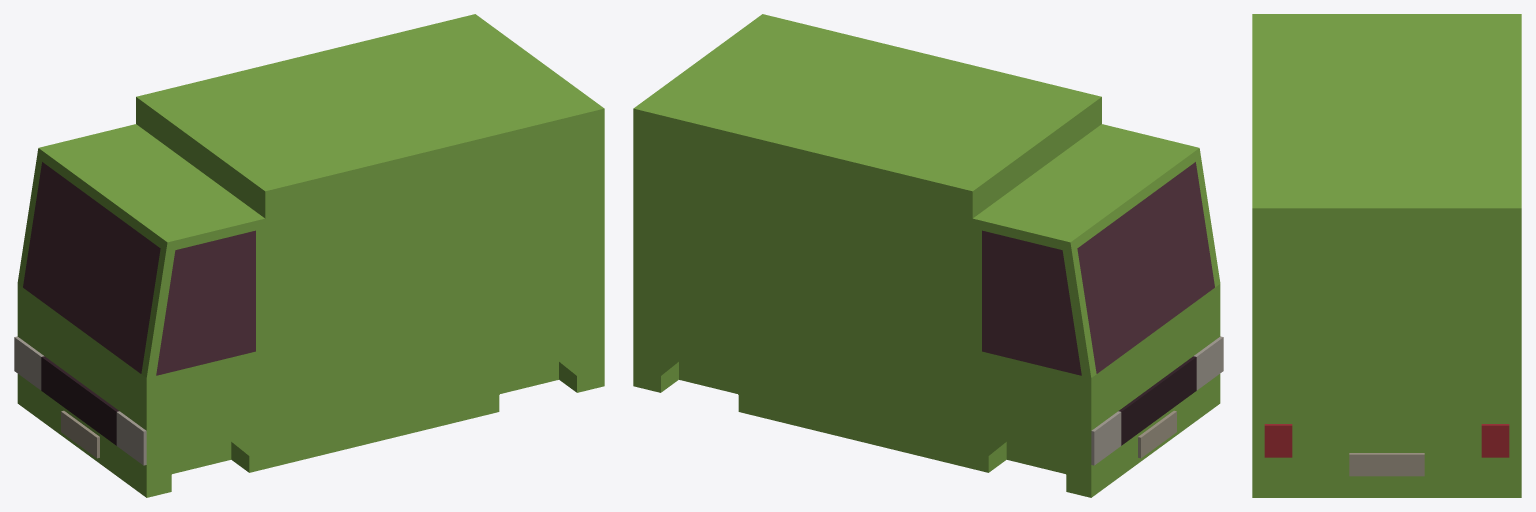
Rendered from MiniTruck_Green.fbx.
The picture shows the model from 3 angles, left to right: view 1: azimuth 30°, elevation 25°; view 2: azimuth 150°, elevation 25°; view 3: azimuth 270°, elevation 25°; orthographic projection. The views are drawn at different scales.
Parts seen in each view (by area): view 1: MiniTruck_Green, MiniTruck_Lights; view 2: MiniTruck_Green, MiniTruck_Lights; view 3: MiniTruck_Green, MiniTruck_Lights.
Part boxes in pixels (left/top/right/bottom): MiniTruck_Green: left=17, top=14, right=604, bottom=497; MiniTruck_Lights: left=14, top=336, right=146, bottom=465; MiniTruck_Green: left=633, top=14, right=1220, bottom=497; MiniTruck_Lights: left=1091, top=336, right=1223, bottom=465; MiniTruck_Green: left=1252, top=14, right=1521, bottom=497; MiniTruck_Lights: left=1264, top=424, right=1509, bottom=457.
Bounding box in the file's own units: 4.46 × 2.55 × 2.15.
